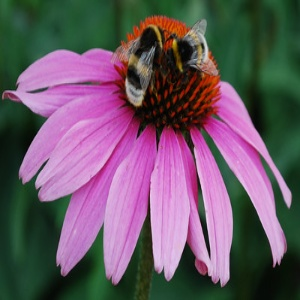bee: (125, 24, 161, 106), (166, 36, 200, 77)
